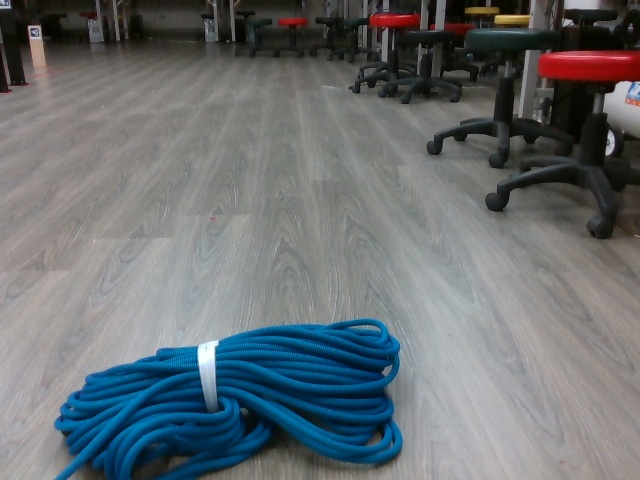rope: (54, 318, 406, 480)
